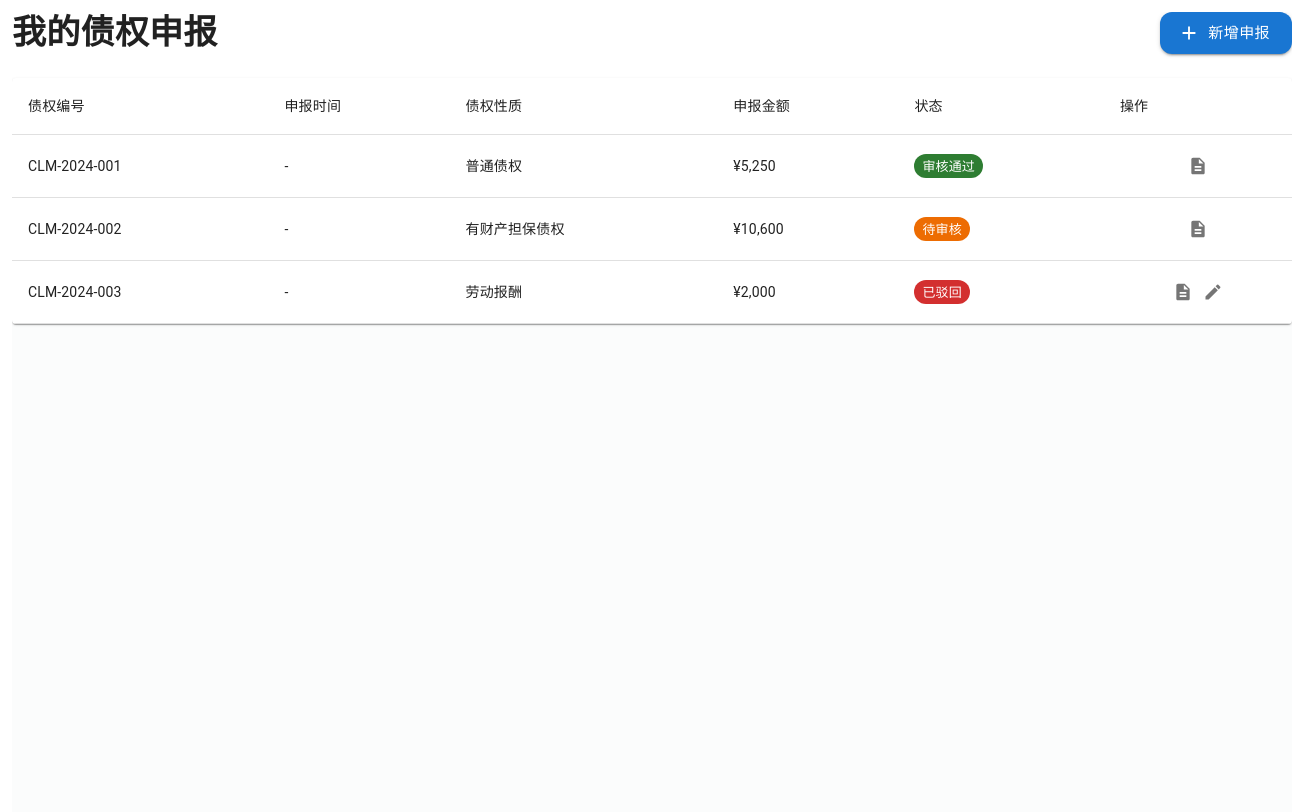
Test: ClaimSubmissionPage › renders the form with required fields after clicking add button
The width and height of the screenshot is (1304, 812).
Click the button "新增申报".
click(1226, 33)  # box [1160,12,1292,54]
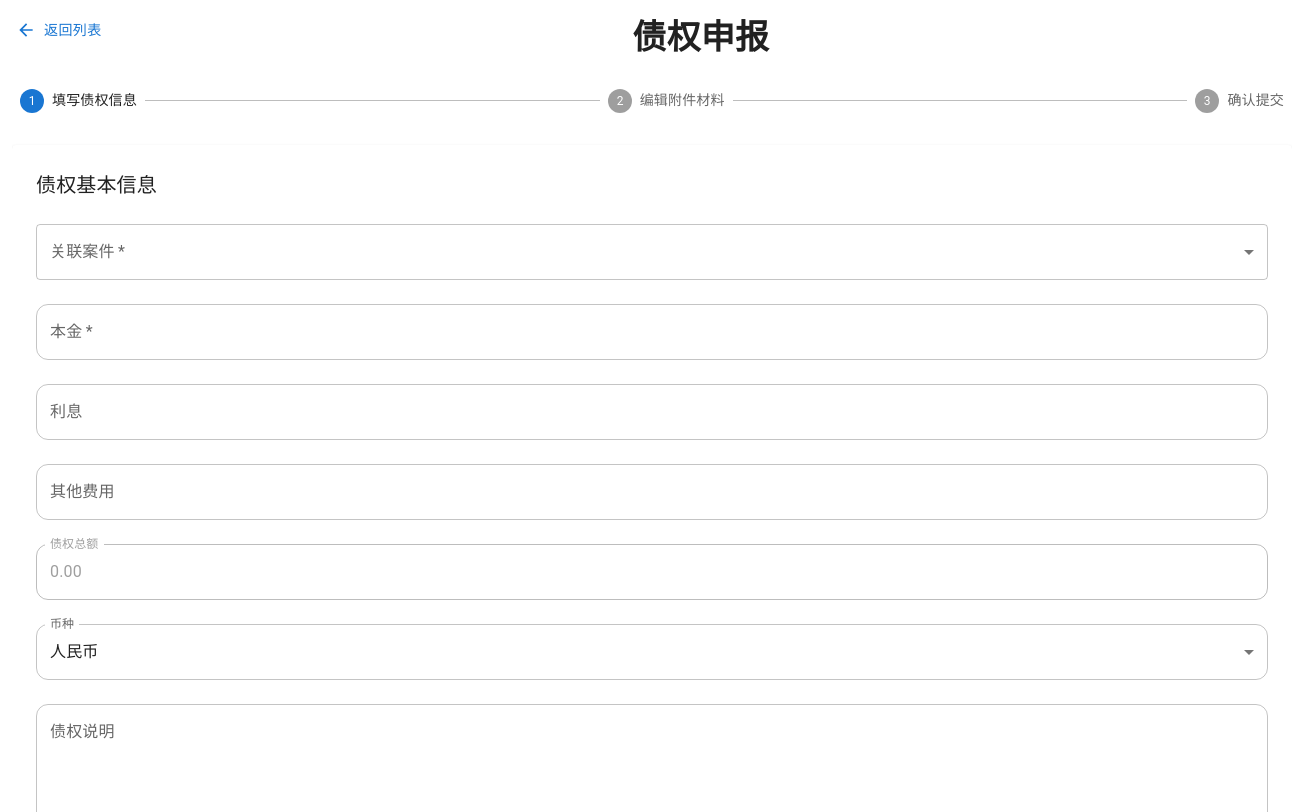
Now the heading "债权基本信息" is shown, box [36,172,157,196]
Now the text "关联案件 *" is shown, box [50,240,125,262]
Now the number field labelled "本金 *" is shown, box [36,304,1268,360]
